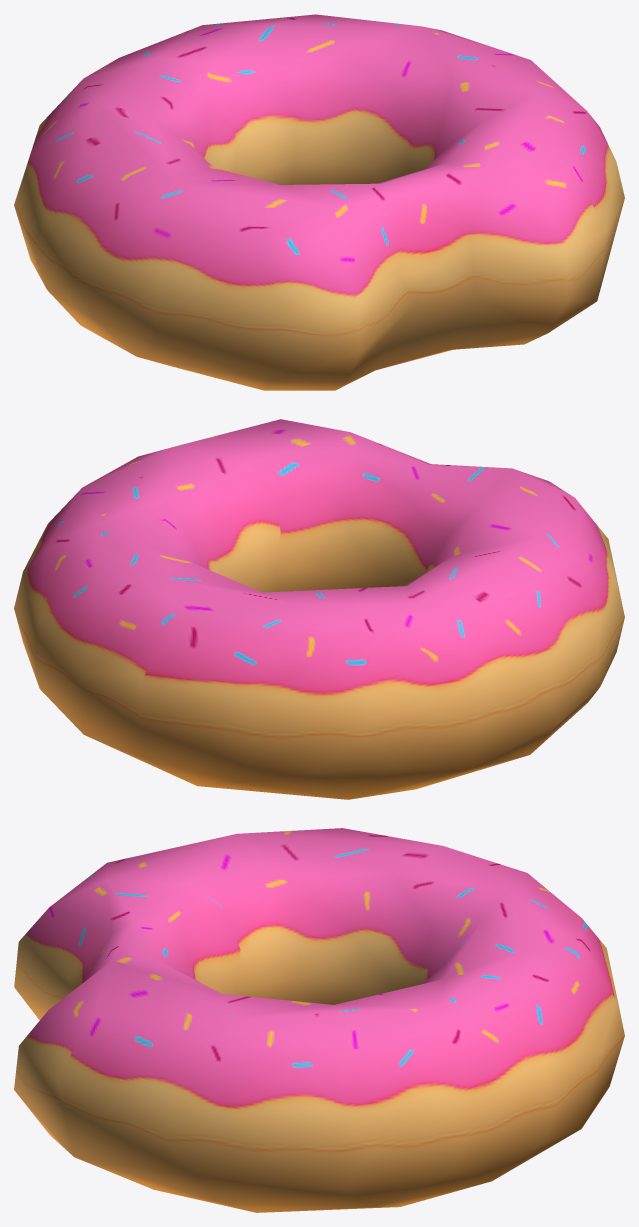
File: Donut.fbx
The picture shows the model from 3 angles, top to bottom: view 1: azimuth 30°, elevation 25°; view 2: azimuth 150°, elevation 25°; view 3: azimuth 270°, elevation 25°; orthographic projection. The views are drawn at different scales.
Visible parts, largest first — view 1: Donut; view 2: Donut; view 3: Donut.
Part boxes in pixels (x1,y1,x2,y2): Donut: [14, 14, 624, 390]; Donut: [14, 419, 624, 799]; Donut: [14, 828, 624, 1212].
Size of the model in its own units: 3007 by 1017 by 2946.
1 material, 1 textured.
